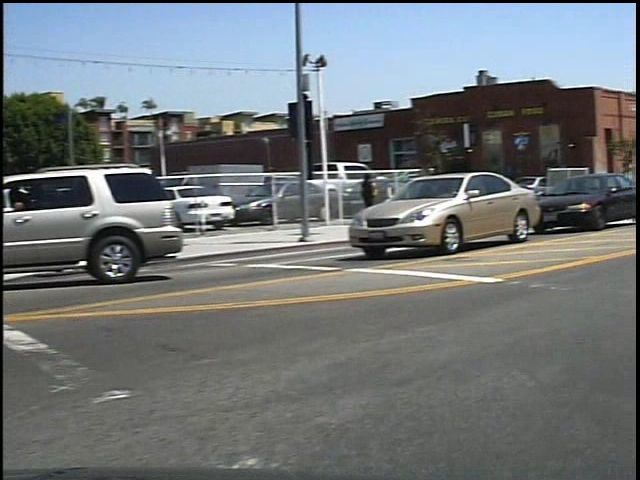person: (365, 169, 391, 229)
